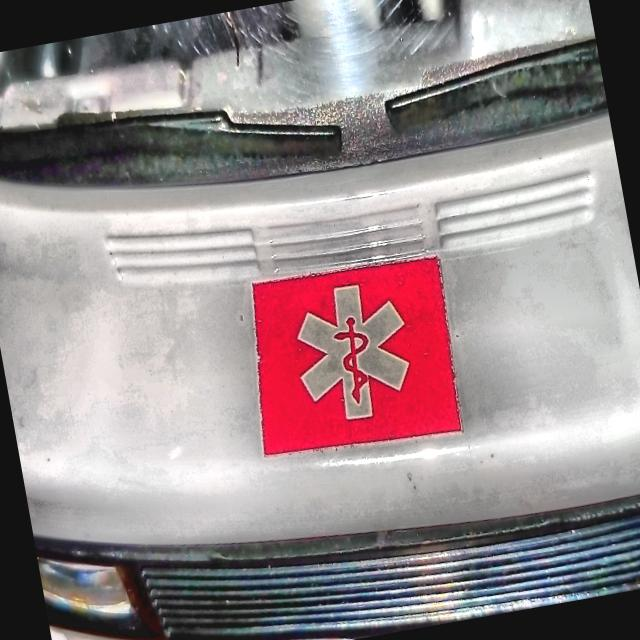Ambulance: (235, 251, 468, 465)
